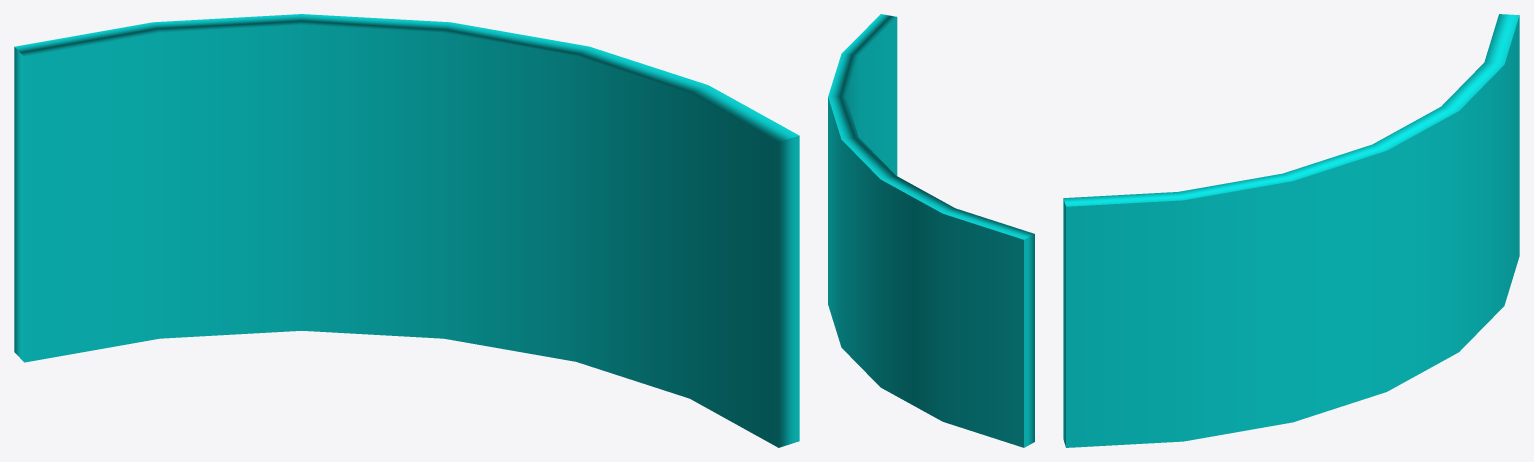
File: SM_Bld_Wall_Curved_Large_01_Collision.fbx
The picture shows the model from 3 angles, left to right: view 1: azimuth 30°, elevation 25°; view 2: azimuth 150°, elevation 25°; view 3: azimuth 270°, elevation 25°; orthographic projection. The views are drawn at different scales.
Visible parts, largest first — view 1: SM_Bld_Wall_Curved_Large_01_Collision; view 2: SM_Bld_Wall_Curved_Large_01_Collision; view 3: SM_Bld_Wall_Curved_Large_01_Collision.
Part boxes in pixels (x1,y1,x2,y2): SM_Bld_Wall_Curved_Large_01_Collision: (14,14,799,447); SM_Bld_Wall_Curved_Large_01_Collision: (828,14,1034,447); SM_Bld_Wall_Curved_Large_01_Collision: (1063,14,1519,447).
Size of the model in its own units: 514 by 300 by 514.
